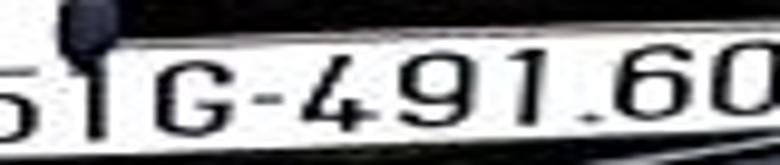-: (252, 89, 289, 107)
.: (577, 107, 608, 129)
0: (710, 39, 779, 117)
1: (65, 62, 115, 149), (506, 44, 546, 126)
4: (297, 56, 381, 137)
5: (0, 64, 45, 148)
6: (612, 39, 696, 124)
9: (397, 53, 478, 133)
G: (152, 56, 236, 138)
